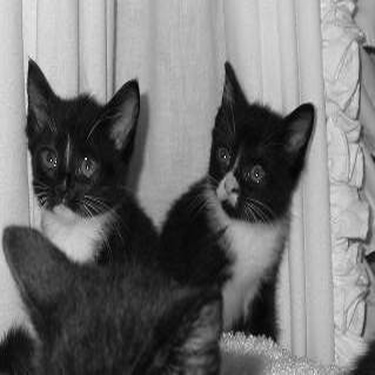cat: (1, 37, 168, 366), (167, 50, 323, 368)
